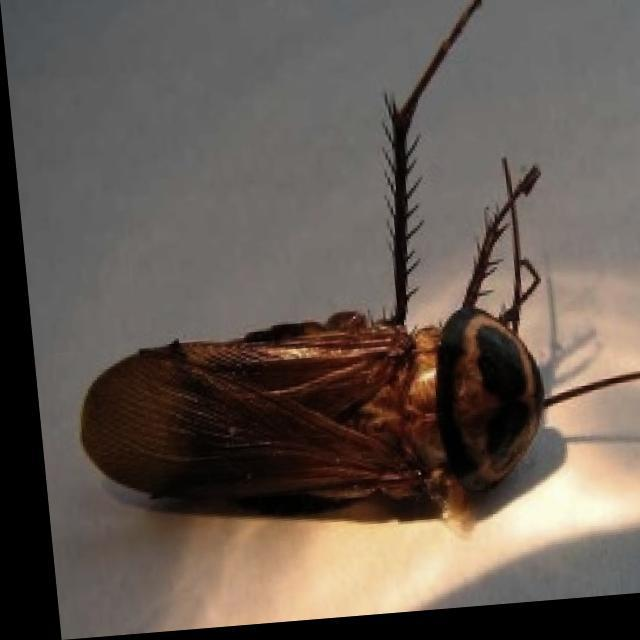cockroach: (70, 173, 588, 555)
